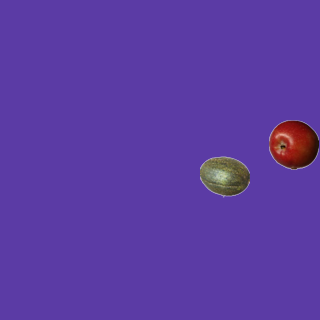Apple Braeburn: (268, 119, 318, 169)
Melon Piel de Sapo: (199, 151, 249, 201)
